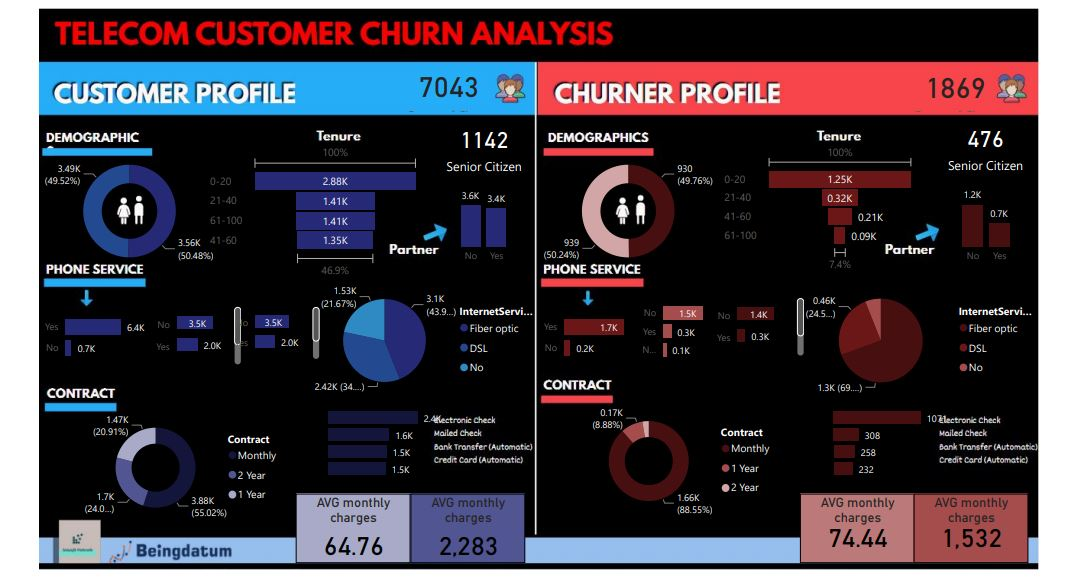

The dashboard page shown, as its layout file describes it:
{"tool":"powerbi","page":{"name":"Page 1","canvas":[1280,720],"ordinal":0},"visuals":[{"type":"card","fields":{"Values":["CountNonNull(Churned_Data.Churn)"]},"box":[1093.4,80.6,161.3,56.6],"z":0},{"type":"card","fields":{"Values":["CountNonNull(Telco-Churn-Analysis.Churn)"]},"box":[444.2,79.2,161.3,58],"z":1000},{"type":"donutChart","fields":{"Category":["Telco-Churn-Analysis.gender"],"Y":["CountNonNull(Telco-Churn-Analysis.gender)"]},"box":[0,172.2,229.6,174.6],"z":2000},{"type":"donutChart","fields":{"Category":["Churned_Data.gender"],"Y":["CountNonNull(Churned_Data.gender)"]},"box":[639.9,172.2,229.6,174.6],"z":3000},{"type":"funnel","fields":{"Category":["Telco-Churn-Analysis.Tenure_Bin"],"Y":["CountNonNull(Telco-Churn-Analysis.Tenure_Bin)"]},"box":[212.9,169.1,278,180.4],"z":4000},{"type":"funnel","fields":{"Category":["Churned_Data.Tenure_Bin"],"Y":["CountNonNull(Churned_Data.Tenure_Bin)"]},"box":[873,167.8,254.2,174.1],"z":5000},{"type":"card","fields":{"Values":["Sum(Telco-Churn-Analysis.SeniorCitizen)"]},"box":[514.8,139,110.2,77.7],"z":6000},{"type":"card","fields":{"Values":["Sum(Churned_Data.SeniorCitizen)"]},"box":[1157.3,136.5,111.5,77.7],"z":7000},{"type":"clusteredColumnChart","fields":{"Category":["Telco-Churn-Analysis.Partner"],"Y":["CountNonNull(Telco-Churn-Analysis.Partner)"]},"box":[504.7,219.2,129,116.5],"z":8000},{"type":"clusteredColumnChart","fields":{"Category":["Churned_Data.Partner"],"Y":["CountNonNull(Churned_Data.Partner)"]},"box":[1147.2,216.7,132.8,119],"z":9000},{"type":"clusteredBarChart","fields":{"Category":["Telco-Churn-Analysis.PhoneService"],"Y":["CountNonNull(Telco-Churn-Analysis.PhoneService)"]},"box":[0,360,141.1,114.8],"z":10000},{"type":"clusteredBarChart","fields":{"Category":["Churned_Data.PhoneService"],"Y":["CountNonNull(Churned_Data.PhoneService)"]},"box":[639.9,360,141.1,114.8],"z":11000},{"type":"clusteredBarChart","fields":{"Category":["Telco-Churn-Analysis.OnlineSecurity"],"Y":["CountNonNull(Telco-Churn-Analysis.OnlineSecurity)"]},"box":[129,370.7,134,91.4],"z":12000},{"type":"clusteredBarChart","fields":{"Category":["Churned_Data.OnlineSecurity"],"Y":["CountNonNull(Churned_Data.OnlineSecurity)"]},"box":[755.2,359.5,125.2,102.7],"z":13000},{"type":"clusteredBarChart","fields":{"Category":["Telco-Churn-Analysis.TechSupport"],"Y":["CountNonNull(Telco-Churn-Analysis.TechSupport)"]},"box":[229.2,370.7,134,83.9],"z":14000},{"type":"clusteredBarChart","fields":{"Category":["Churned_Data.TechSupport"],"Y":["CountNonNull(Churned_Data.TechSupport)"]},"box":[847.9,359.5,136.5,91.4],"z":15000},{"type":"pieChart","fields":{"Y":["CountNonNull(Telco-Churn-Analysis.InternetService)"],"Category":["Telco-Churn-Analysis.InternetService"]},"box":[340.7,346.9,299.3,159.1],"z":16000},{"type":"pieChart","fields":{"Category":["Churned_Data.InternetService"],"Y":["CountNonNull(Churned_Data.InternetService)"]},"box":[973.2,346.9,306.8,159.1],"z":17000},{"type":"donutChart","fields":{"Category":["Telco-Churn-Analysis.Contract"],"Y":["CountNonNull(Telco-Churn-Analysis.Contract)"]},"box":[51.4,512.3,268,154.1],"z":18000},{"type":"donutChart","fields":{"Category":["Churned_Data.Contract"],"Y":["CountNonNull(Churned_Data.Contract)"]},"box":[683.8,503.5,268,154.1],"z":19000},{"type":"clusteredBarChart","fields":{"Category":["Telco-Churn-Analysis.PaymentMethod"],"Y":["CountNonNull(Telco-Churn-Analysis.PaymentMethod)"]},"box":[364.5,503.5,160.3,101.4],"z":20000},{"type":"clusteredBarChart","fields":{"Category":["Churned_Data.PaymentMethod"],"Y":["CountNonNull(Churned_Data.PaymentMethod)"]},"box":[1013.2,503.5,160.3,101.4],"z":21000},{"type":"card","title":"AVG monthly charges","fields":{"Values":["Avg(Telco-Churn-Analysis.MonthlyCharges)"]},"box":[328.1,622.5,146.5,88.9],"z":22000},{"type":"card","title":"AVG monthly charges","fields":{"Values":["Avg(Churned_Data.MonthlyCharges)"]},"box":[974.4,622.5,146.5,88.9],"z":23000},{"type":"card","title":"AVG monthly charges","fields":{"Values":["Avg(Churned_Data.TotalCharges)"]},"box":[1120.9,622.5,146.5,88.9],"z":24000},{"type":"card","title":"AVG monthly charges","fields":{"Values":["Avg(Telco-Churn-Analysis.TotalCharges)"]},"box":[474.7,622.5,146.5,88.9],"z":25000}]}

Visuals, with their boxes on the page's 1280x720 design canvas (x1, y1, x2, y2). These are canvas units, not pixel positions in the 1084x579 screenshot, which may show the page scaled, cropped or inside an application window:
card - CountNonNull(Churned_Data.Churn): BBox(1093, 81, 1255, 137)
card - CountNonNull(Telco-Churn-Analysis.Churn): BBox(444, 79, 606, 137)
donutChart - Telco-Churn-Analysis.gender x CountNonNull(Telco-Churn-Analysis.gender): BBox(0, 172, 230, 347)
donutChart - Churned_Data.gender x CountNonNull(Churned_Data.gender): BBox(640, 172, 870, 347)
funnel - Telco-Churn-Analysis.Tenure_Bin x CountNonNull(Telco-Churn-Analysis.Tenure_Bin): BBox(213, 169, 491, 350)
funnel - Churned_Data.Tenure_Bin x CountNonNull(Churned_Data.Tenure_Bin): BBox(873, 168, 1127, 342)
card - Sum(Telco-Churn-Analysis.SeniorCitizen): BBox(515, 139, 625, 217)
card - Sum(Churned_Data.SeniorCitizen): BBox(1157, 136, 1269, 214)
clusteredColumnChart - Telco-Churn-Analysis.Partner x CountNonNull(Telco-Churn-Analysis.Partner): BBox(505, 219, 634, 336)
clusteredColumnChart - Churned_Data.Partner x CountNonNull(Churned_Data.Partner): BBox(1147, 217, 1280, 336)
clusteredBarChart - Telco-Churn-Analysis.PhoneService x CountNonNull(Telco-Churn-Analysis.PhoneService): BBox(0, 360, 141, 475)
clusteredBarChart - Churned_Data.PhoneService x CountNonNull(Churned_Data.PhoneService): BBox(640, 360, 781, 475)
clusteredBarChart - Telco-Churn-Analysis.OnlineSecurity x CountNonNull(Telco-Churn-Analysis.OnlineSecurity): BBox(129, 371, 263, 462)
clusteredBarChart - Churned_Data.OnlineSecurity x CountNonNull(Churned_Data.OnlineSecurity): BBox(755, 360, 880, 462)
clusteredBarChart - Telco-Churn-Analysis.TechSupport x CountNonNull(Telco-Churn-Analysis.TechSupport): BBox(229, 371, 363, 455)
clusteredBarChart - Churned_Data.TechSupport x CountNonNull(Churned_Data.TechSupport): BBox(848, 360, 984, 451)
pieChart - CountNonNull(Telco-Churn-Analysis.InternetService) x Telco-Churn-Analysis.InternetService: BBox(341, 347, 640, 506)
pieChart - Churned_Data.InternetService x CountNonNull(Churned_Data.InternetService): BBox(973, 347, 1280, 506)
donutChart - Telco-Churn-Analysis.Contract x CountNonNull(Telco-Churn-Analysis.Contract): BBox(51, 512, 319, 666)
donutChart - Churned_Data.Contract x CountNonNull(Churned_Data.Contract): BBox(684, 504, 952, 658)
clusteredBarChart - Telco-Churn-Analysis.PaymentMethod x CountNonNull(Telco-Churn-Analysis.PaymentMethod): BBox(364, 504, 525, 605)
clusteredBarChart - Churned_Data.PaymentMethod x CountNonNull(Churned_Data.PaymentMethod): BBox(1013, 504, 1174, 605)
"AVG monthly charges" card: BBox(328, 622, 475, 711)
"AVG monthly charges" card: BBox(974, 622, 1121, 711)
"AVG monthly charges" card: BBox(1121, 622, 1267, 711)
"AVG monthly charges" card: BBox(475, 622, 621, 711)
